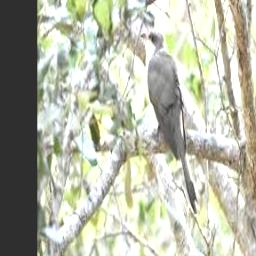Cuckoo: (141, 29, 197, 214)
